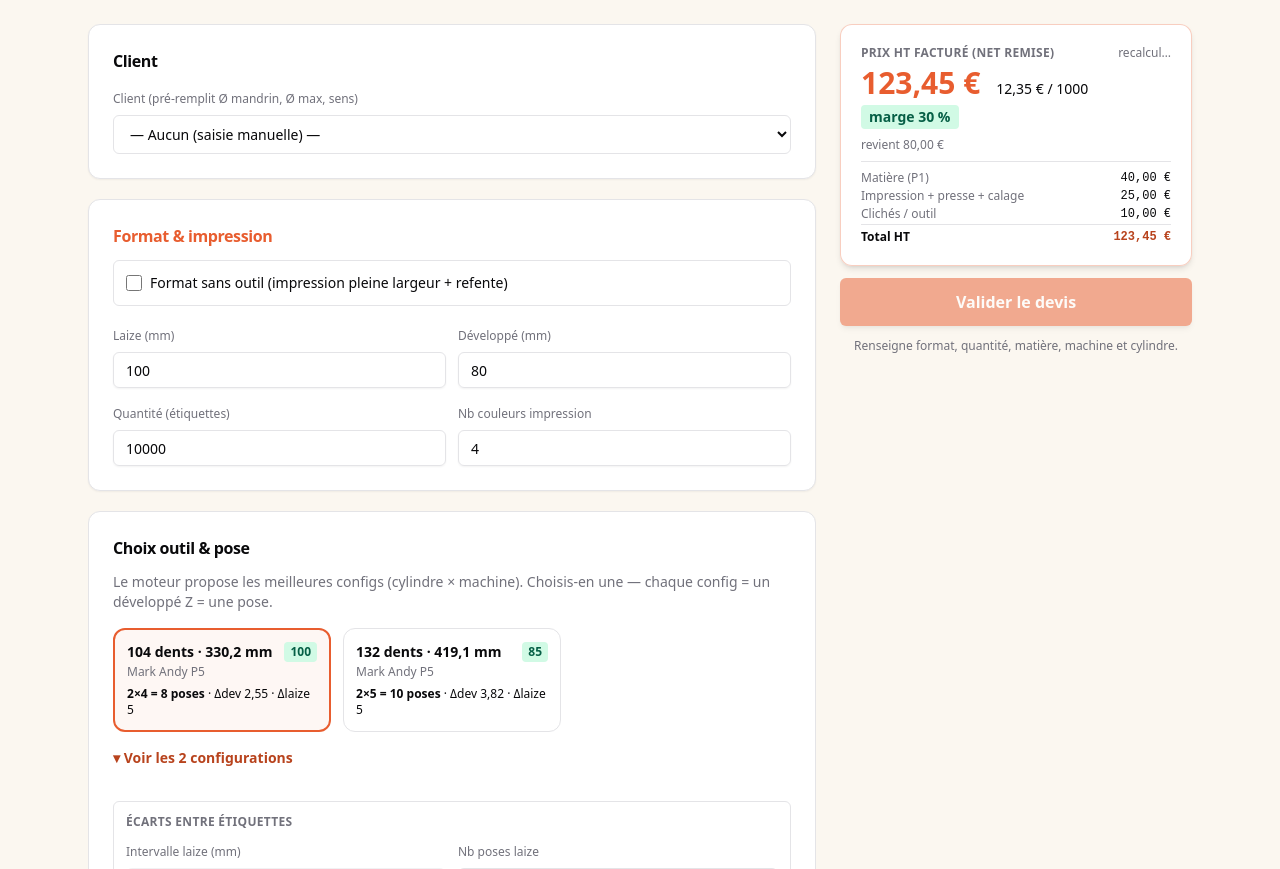
DevisPageUnique — page devis réactive › décompo refente affichée en sans outil (déchet latéral)
The image size is (1280, 869).
Click the checkbox with test id "toggle-sans-outil" at (134, 283), box [126,275,142,291]
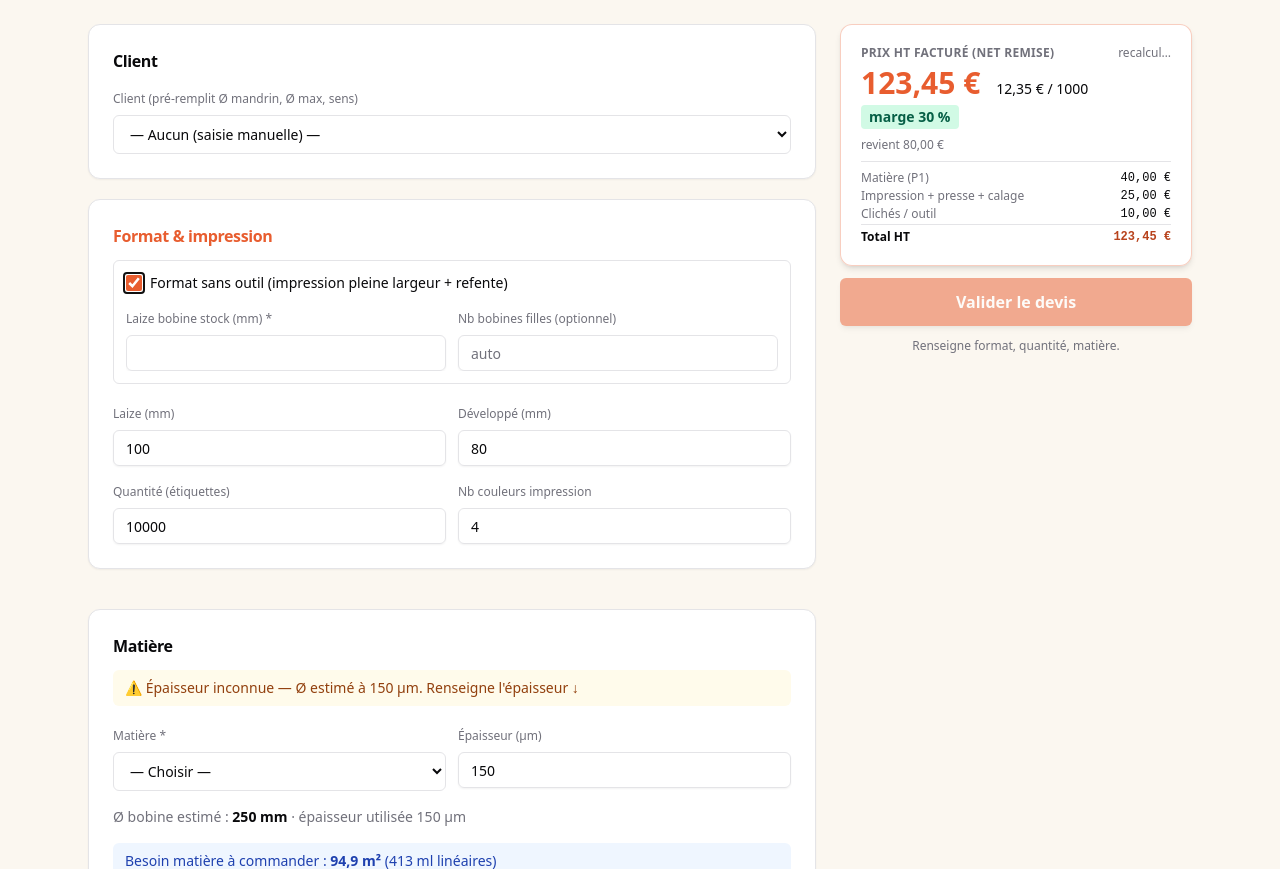
Type "330" into the number field with test id "laize-stock" at (286, 353), box [126,335,446,371]
(page scrolled)
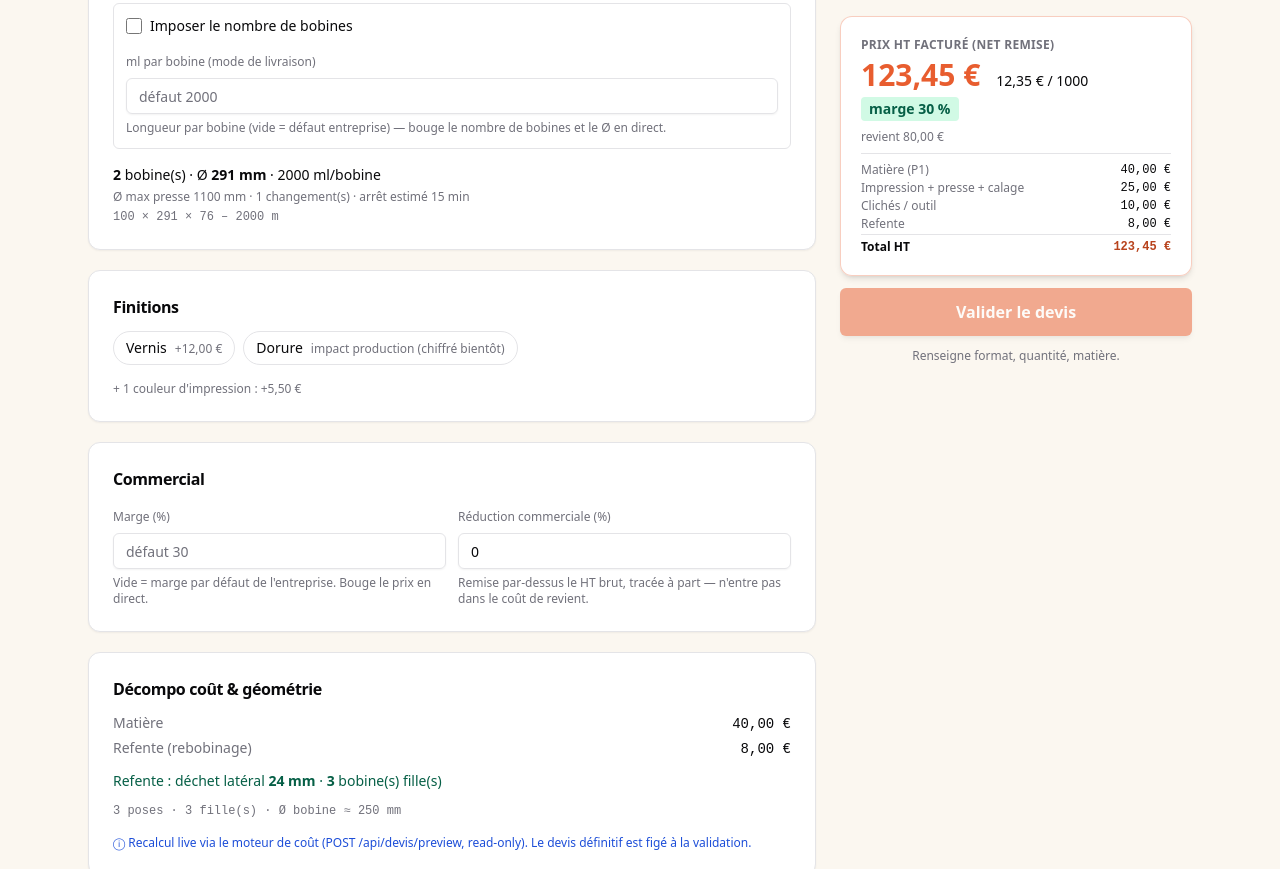
Result: the element with test id "decompo-dechet" is shown at [113,771,442,790]
Result: the element with test id "decompo-dechet" shows "déchet" at [113,771,265,790]
